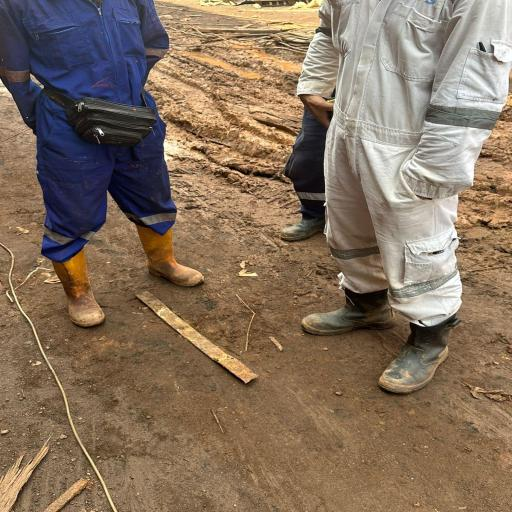safety_shoe: (370, 316, 460, 394), (42, 245, 116, 335), (128, 216, 214, 292), (300, 284, 398, 338), (270, 192, 334, 246)
